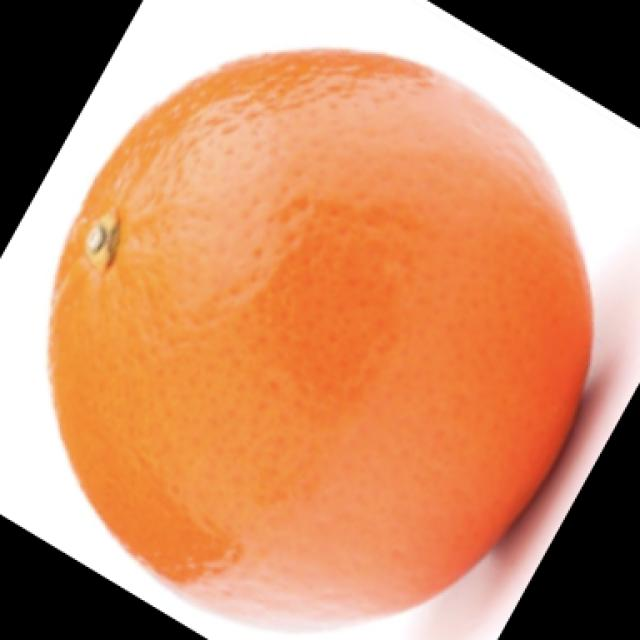orange: (59, 39, 617, 623)
